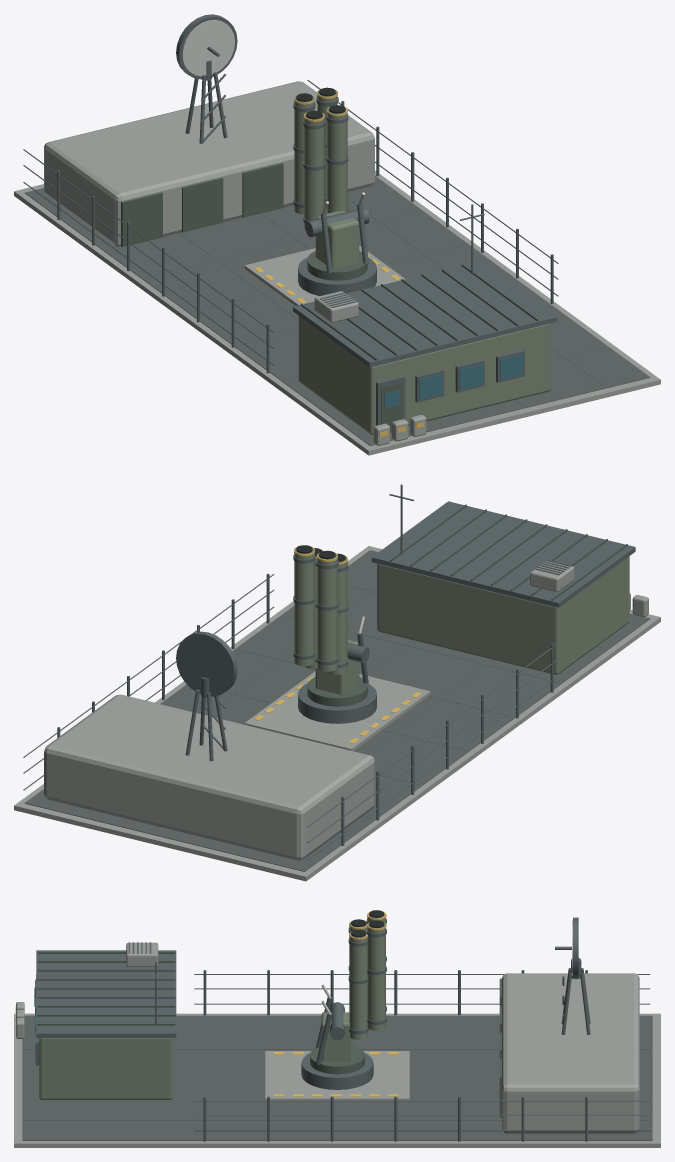
The model's file is military_2x4_c.glb.
3 renders of one model, top to bottom at view 1: azimuth 30°, elevation 25°; view 2: azimuth 150°, elevation 25°; view 3: azimuth 270°, elevation 25°, orthographic. The views are drawn at different scales.
Parts seen in each view (by area): view 1: military_2x4_c_foundation; view 2: military_2x4_c_foundation; view 3: military_2x4_c_foundation.
Boxes of the visible parts, bbox=[...] form: military_2x4_c_foundation: bbox=[14, 14, 660, 455]; military_2x4_c_foundation: bbox=[14, 484, 660, 881]; military_2x4_c_foundation: bbox=[14, 910, 660, 1147].
Bounding box in the file's own units: 14.5 × 8.55 × 30.5.
